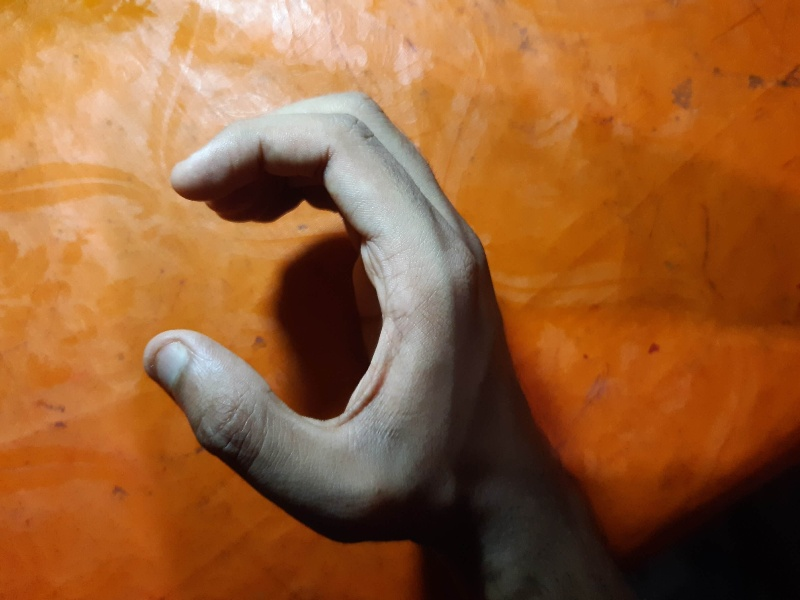one: (126, 73, 522, 564)
